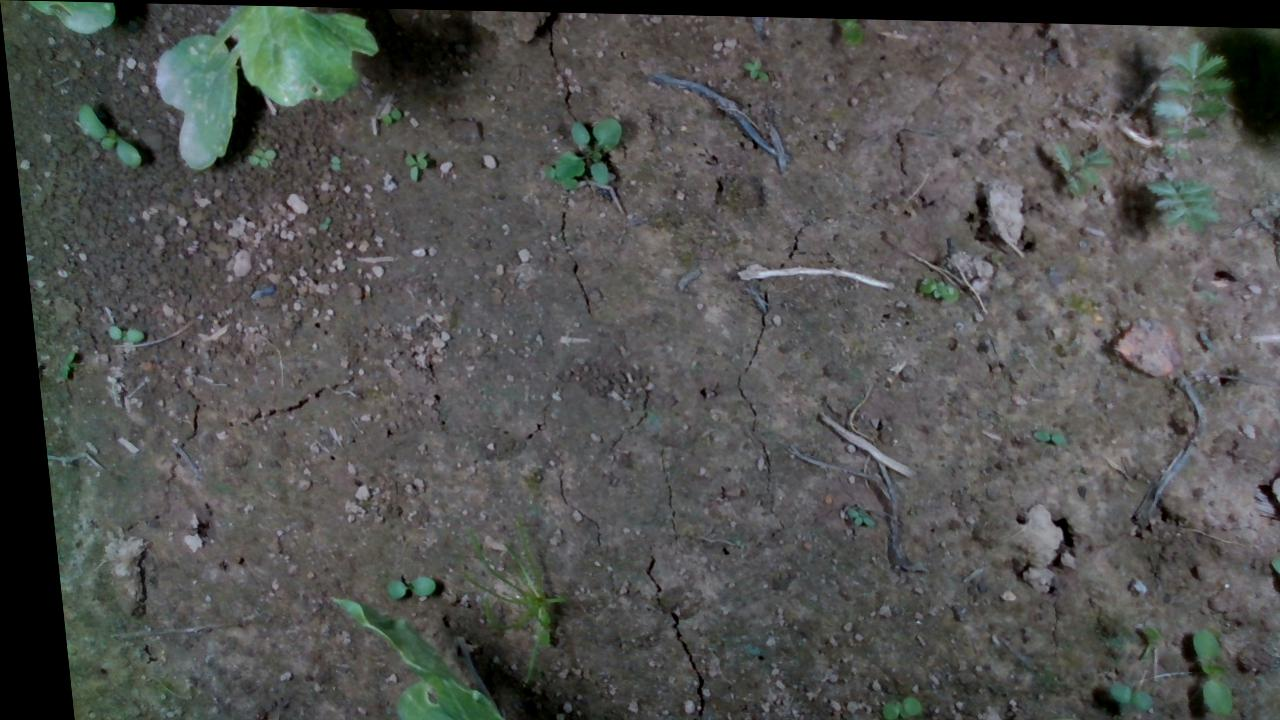weed: (64, 100, 144, 168)
